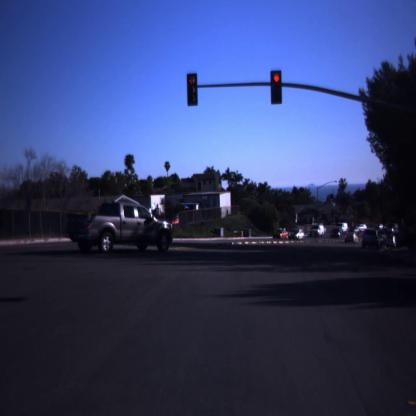trafficlight: (268, 67, 284, 108), (186, 72, 200, 108)
